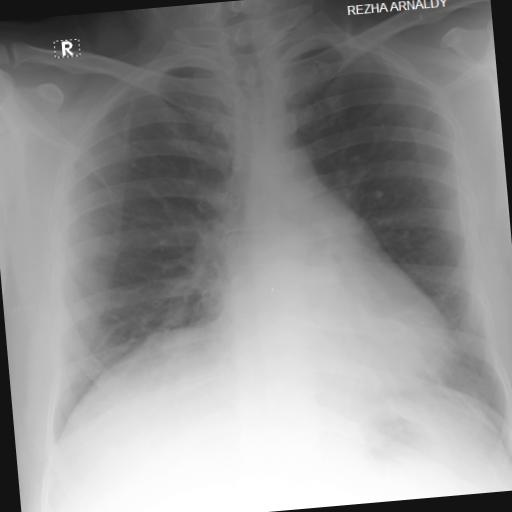kardiomegali: (12, 0, 512, 494)
